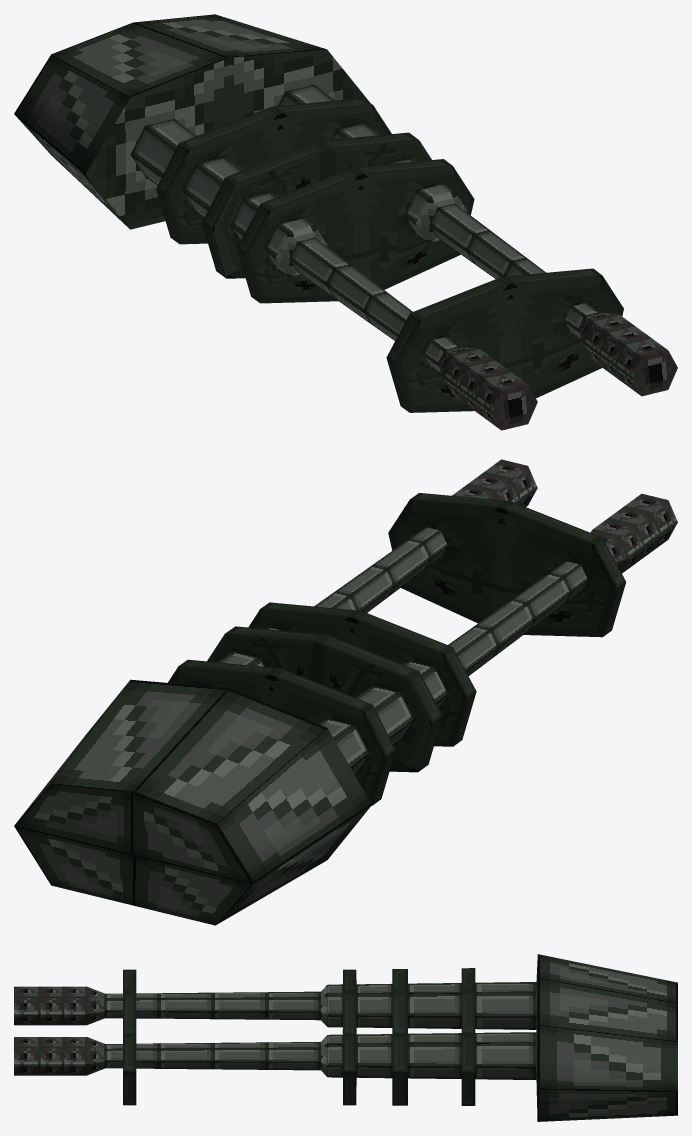
Rendered from weapon_DAC.fbx.
3 renders of one model, top to bottom at view 1: azimuth 30°, elevation 25°; view 2: azimuth 150°, elevation 25°; view 3: azimuth 270°, elevation 25°, orthographic. The views are drawn at different scales.
Visible parts, largest first — view 1: weapons_DoubleAutocannon; view 2: weapons_DoubleAutocannon; view 3: weapons_DoubleAutocannon.
Part boxes in pixels (<box>): weapons_DoubleAutocannon: <box>14,14,677,430</box>; weapons_DoubleAutocannon: <box>14,459,677,925</box>; weapons_DoubleAutocannon: <box>14,954,677,1121</box>.
Bounding box in the file's own units: 2.26 × 1.12 × 6.19.
